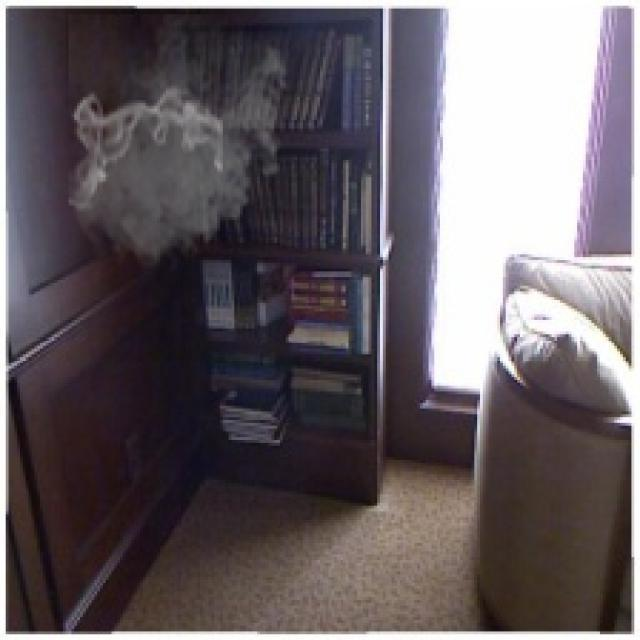Smoke: (66, 14, 294, 280)
